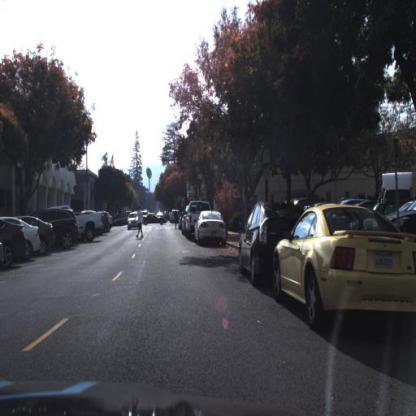car: (266, 198, 416, 340), (236, 197, 275, 291), (2, 217, 29, 272), (195, 209, 231, 249), (74, 210, 105, 246), (182, 195, 204, 239), (58, 208, 79, 250), (79, 208, 104, 243), (22, 217, 40, 260), (39, 217, 58, 256), (128, 210, 145, 235), (142, 212, 166, 228)
pedestrian: (133, 201, 147, 241)
